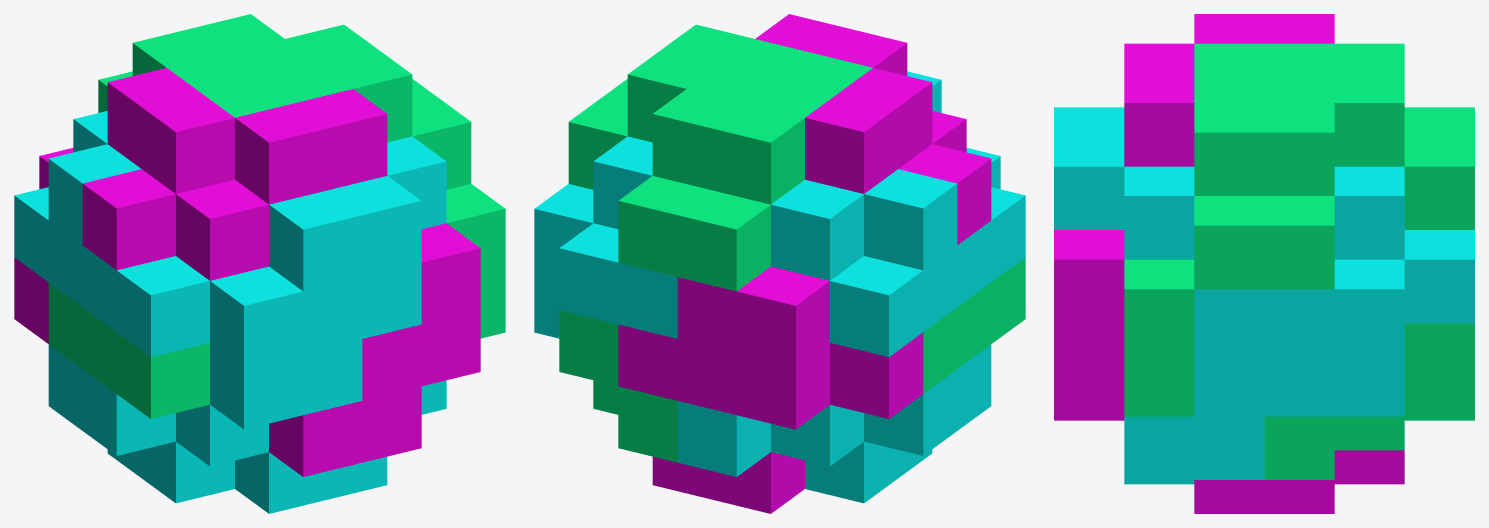
Rendered from planetas-6-colorido 1.obj.
The picture shows the model from 3 angles, left to right: view 1: azimuth 30°, elevation 25°; view 2: azimuth 150°, elevation 25°; view 3: azimuth 270°, elevation 25°; orthographic projection. The views are drawn at different scales.
Bounding box in the file's own units: 0.6 × 0.6 × 0.6.
1 material, 1 textured.
